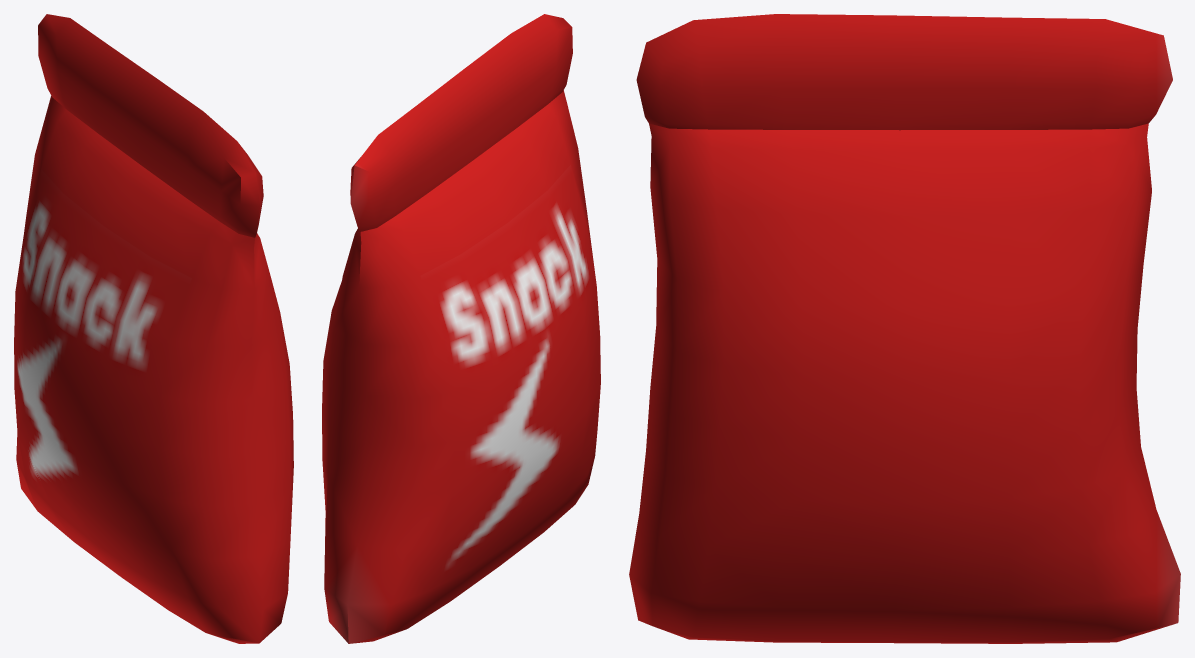
Rendered from Snack02.fbx.
The picture shows the model from 3 angles, left to right: view 1: azimuth 30°, elevation 25°; view 2: azimuth 150°, elevation 25°; view 3: azimuth 270°, elevation 25°; orthographic projection. The views are drawn at different scales.
Visible parts, largest first — view 1: Snack02; view 2: Snack02; view 3: Snack02.
Part boxes in pixels (box(x1,y1,x2,y2)): Snack02: box(14, 14, 293, 643); Snack02: box(322, 14, 600, 643); Snack02: box(629, 14, 1180, 643).
Bounding box in the file's own units: 0.0539 × 0.1119 × 0.1409.
